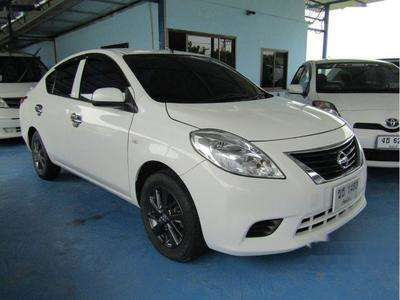sedan: (18, 48, 368, 264)
